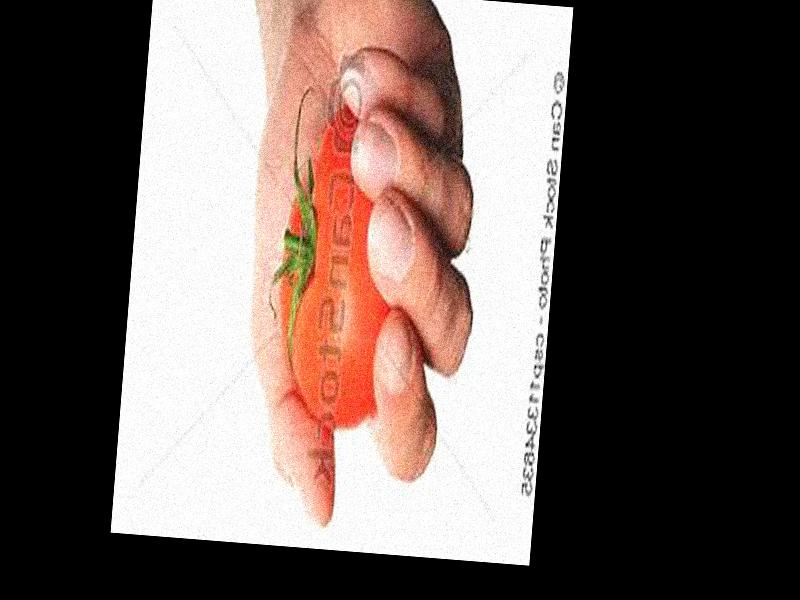Tomato: (271, 105, 402, 431)
